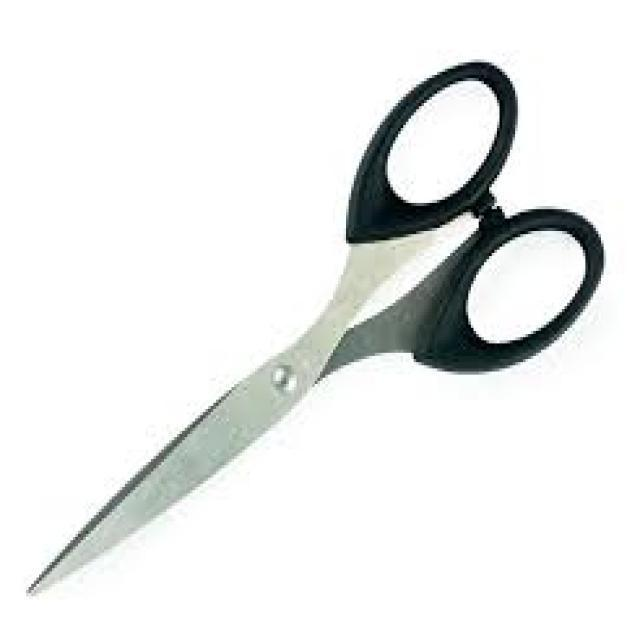tesoura: (29, 63, 603, 593)
